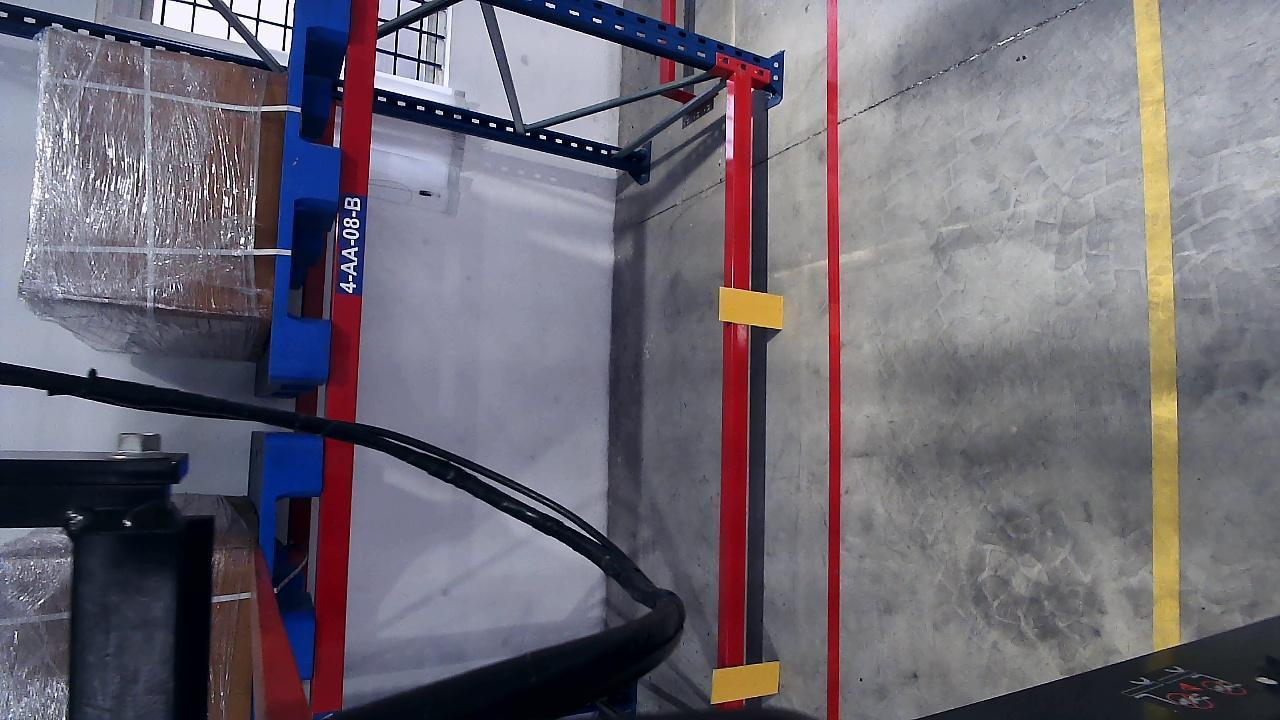red_line: (820, 1, 852, 720)
yellow_line: (1133, 0, 1181, 650)
